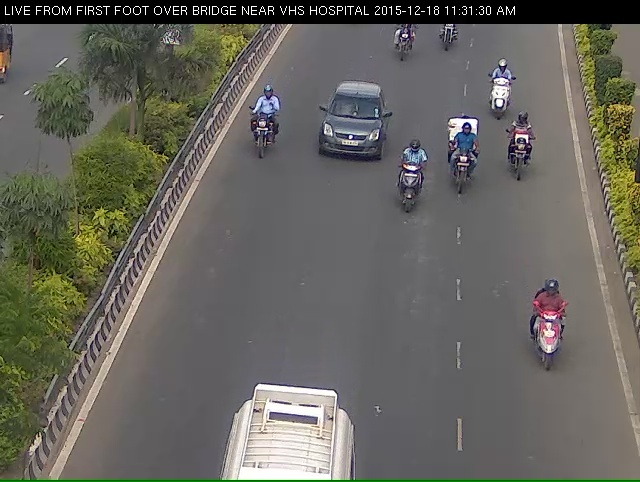Person: (528, 305, 578, 396), (504, 120, 542, 199), (445, 124, 482, 203), (237, 104, 277, 175), (393, 154, 431, 224), (480, 60, 515, 121), (390, 21, 414, 78)
